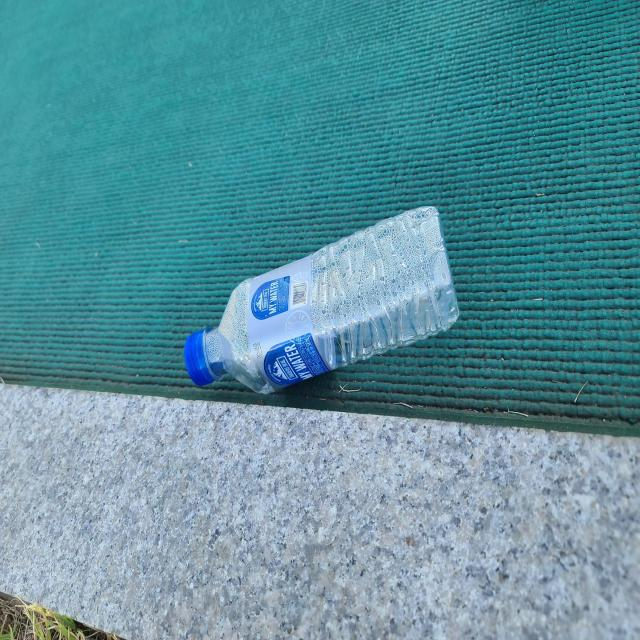plastic: (184, 206, 460, 394)
